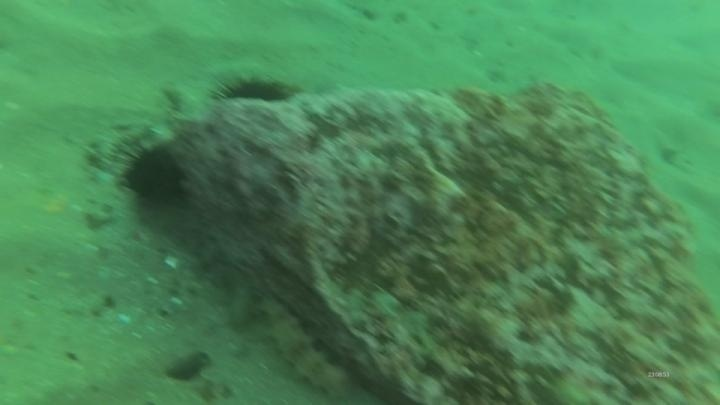echinus: (114, 137, 193, 215), (207, 70, 300, 108)
holothurian: (249, 292, 352, 402)
